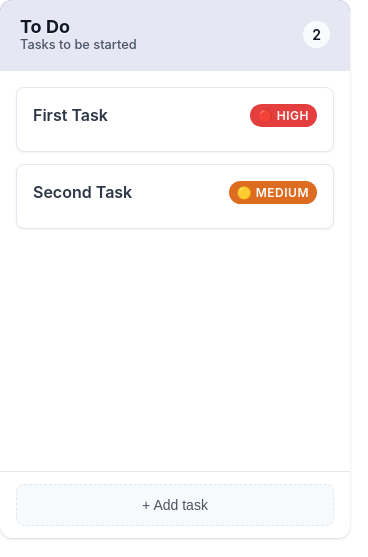
Test: KanbanColumn Component › Column Editing › should cancel editing when Escape is pressed
The width and height of the screenshot is (368, 557).
Double-click the heading "To Do".
double_click(45, 26)  # box [20,16,70,37]
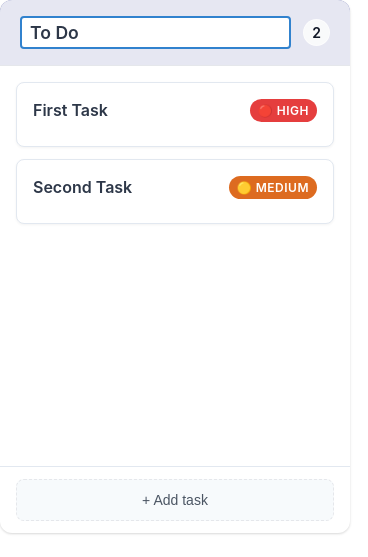
Replace the text in the field showing "To Do" with "Should be cancelled" at (156, 32), box [20,16,291,49]
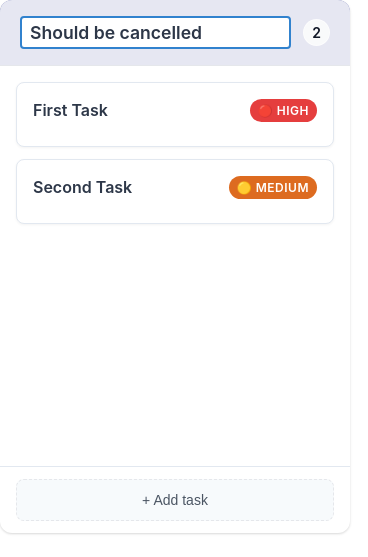
Press Escape
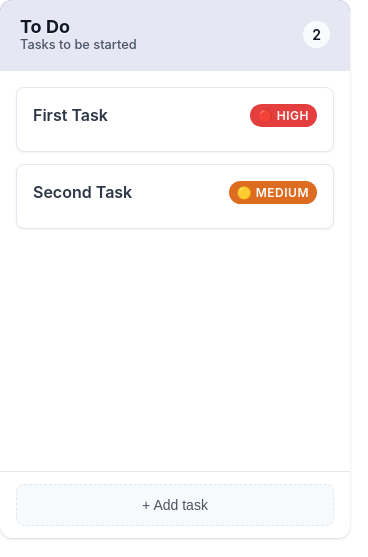
Check: the heading "To Do" is shown, box [20,16,70,37]
